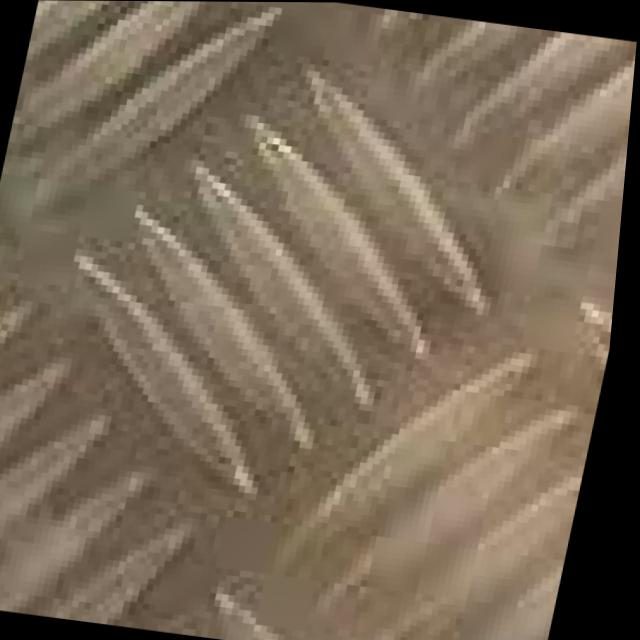metal-plates: (1, 35, 533, 560)
